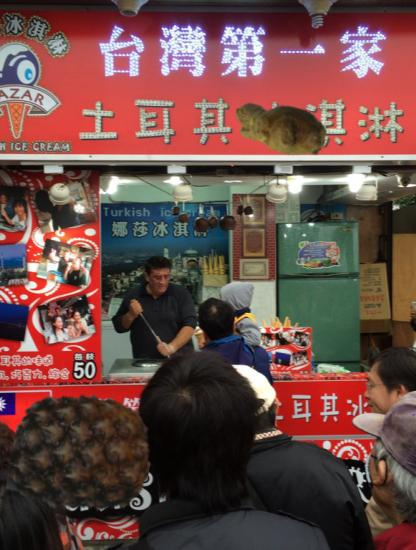Ginger: (232, 80, 329, 177)
Pineapple: (13, 384, 152, 523)
